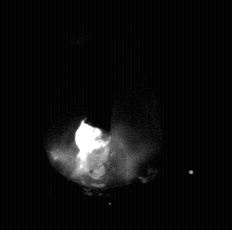arame: (88, 0, 112, 134)
poca: (48, 0, 160, 230)
